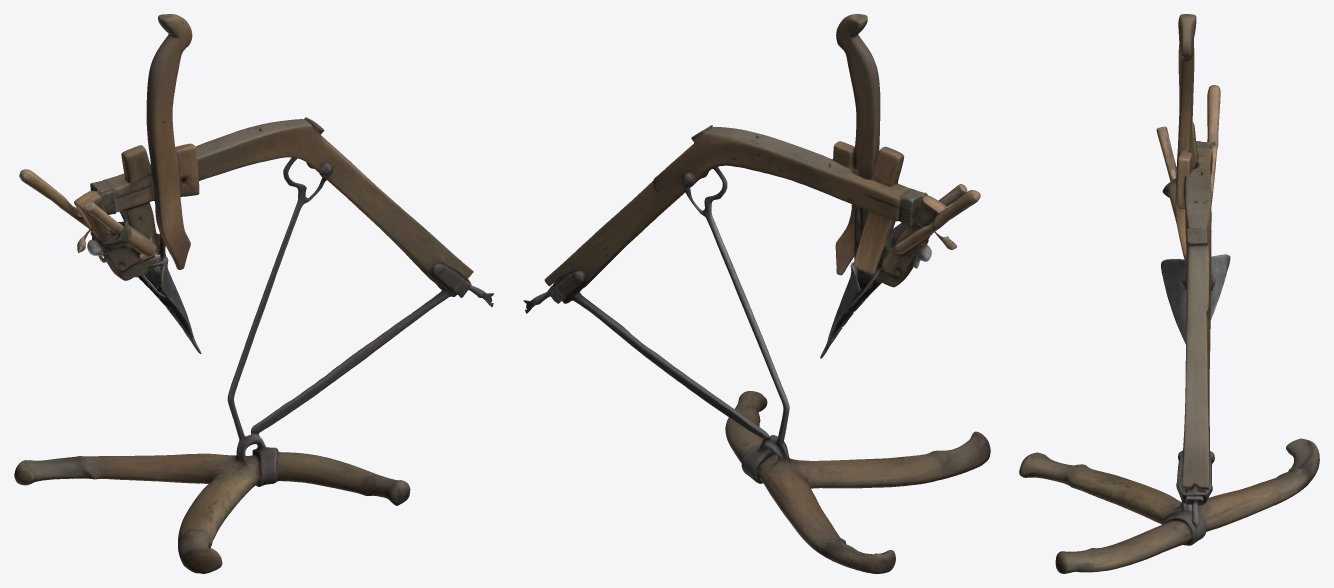
File: pflug.glb
The picture shows the model from 3 angles, left to right: view 1: azimuth 30°, elevation 25°; view 2: azimuth 150°, elevation 25°; view 3: azimuth 270°, elevation 25°; orthographic projection.
Parts seen in each view (by area): view 1: geometry_0; view 2: geometry_0; view 3: geometry_0.
Boxes of the visible parts, x1,y1,x2,y2 form: geometry_0: (14, 14, 494, 573); geometry_0: (523, 14, 990, 573); geometry_0: (1019, 14, 1319, 573).
Size of the model in its own units: 0.9886 by 1 by 0.5623.
Materials: 1 (1 with a texture image).
